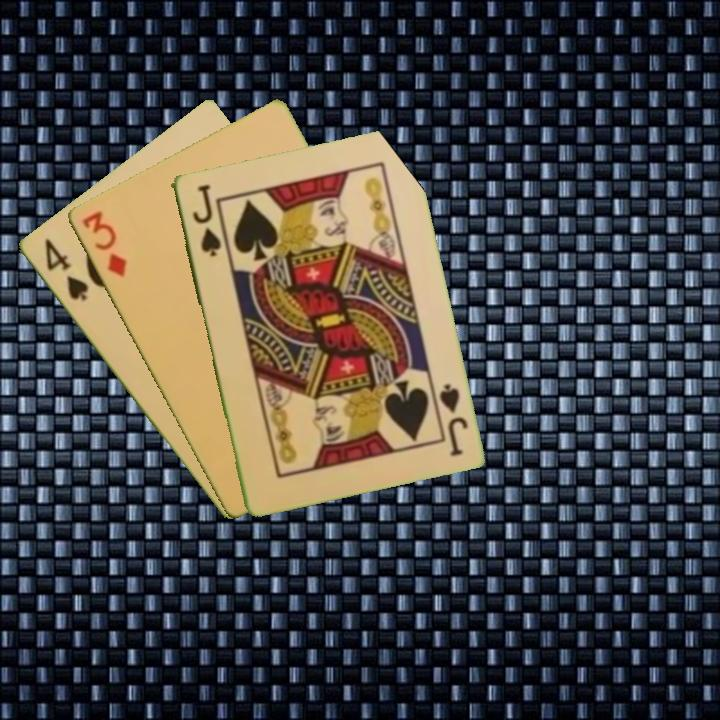3d: (78, 207, 129, 280)
4s: (40, 235, 91, 305)
Js: (188, 181, 223, 260), (435, 380, 470, 459)
